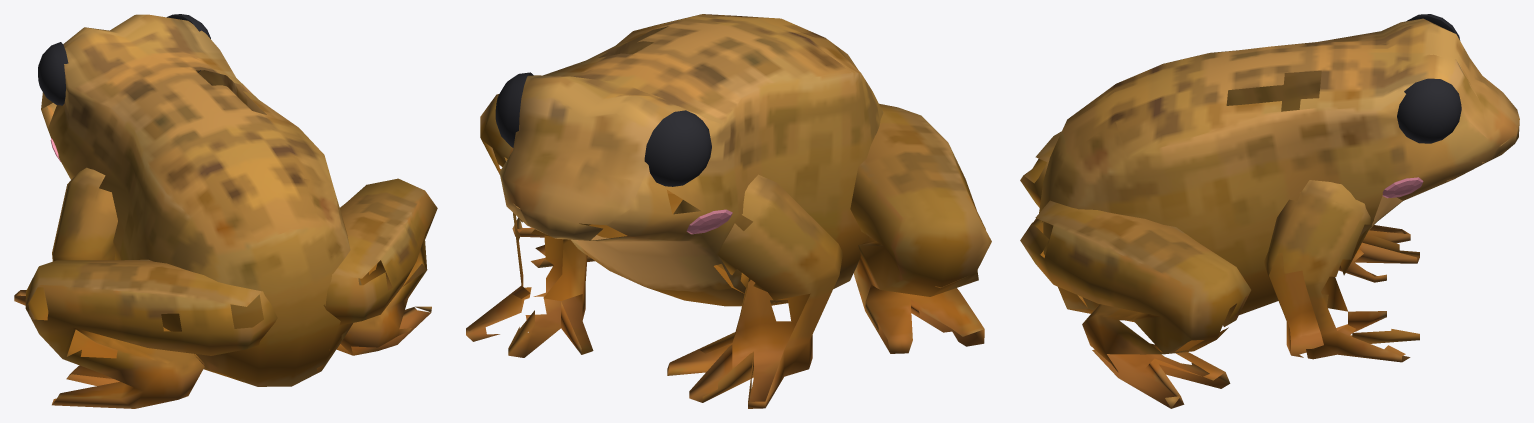
File: Toad1_NEW.fbx
3 renders of one model, left to right at view 1: azimuth 30°, elevation 25°; view 2: azimuth 150°, elevation 25°; view 3: azimuth 270°, elevation 25°, orthographic. The views are drawn at different scales.
Visible parts, largest first — view 1: Toad1_NEW.001, Toad1_NEW_Eyes; view 2: Toad1_NEW.001, Toad1_NEW_Eyes, Toad1_NEW_Blush; view 3: Toad1_NEW.001, Toad1_NEW_Eyes, Toad1_NEW_Blush.001.
Part boxes in pixels (x1=…): Toad1_NEW.001: x1=14, y1=14, x2=437, y2=408; Toad1_NEW_Eyes: x1=38, y1=14, x2=210, y2=105; Toad1_NEW.001: x1=466, y1=14, x2=991, y2=408; Toad1_NEW_Eyes: x1=495, y1=72, x2=711, y2=186; Toad1_NEW_Blush: x1=686, y1=209, x2=732, y2=234; Toad1_NEW.001: x1=1020, y1=18, x2=1519, y2=408; Toad1_NEW_Eyes: x1=1397, y1=14, x2=1461, y2=143; Toad1_NEW_Blush.001: x1=1382, y1=177, x2=1423, y2=198.
Size of the model in its own units: 239 by 141 by 232.
3 materials, 1 textured.
